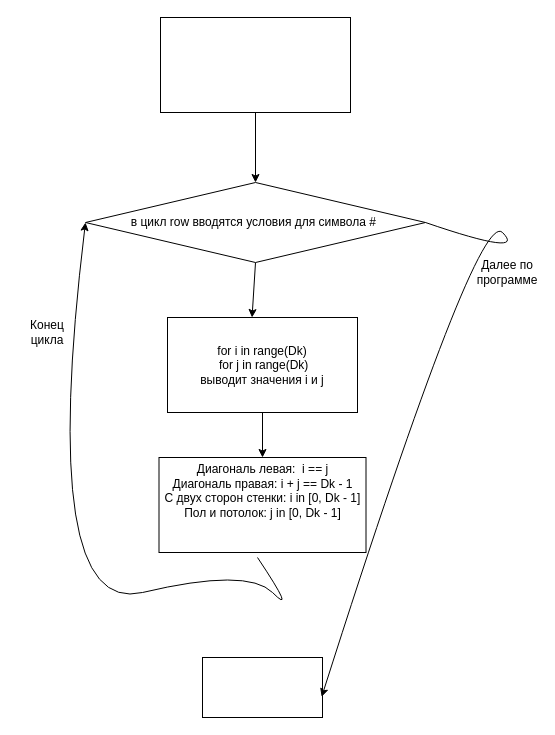
Image size: 555x735. Some labels were removed from this diagram. The shapes that lost their labels are listed below. From the top down, each one's centre as x and y in pixels, then its label:
At point 255,64: "ввод данных размера ковра Dk = int(input())".
At point 262,687: "Выводит фигуру print(*row)".
